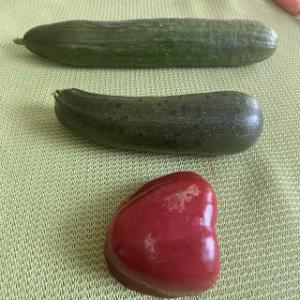cucumber: (2, 8, 286, 72)
zucchini: (42, 78, 272, 158)
